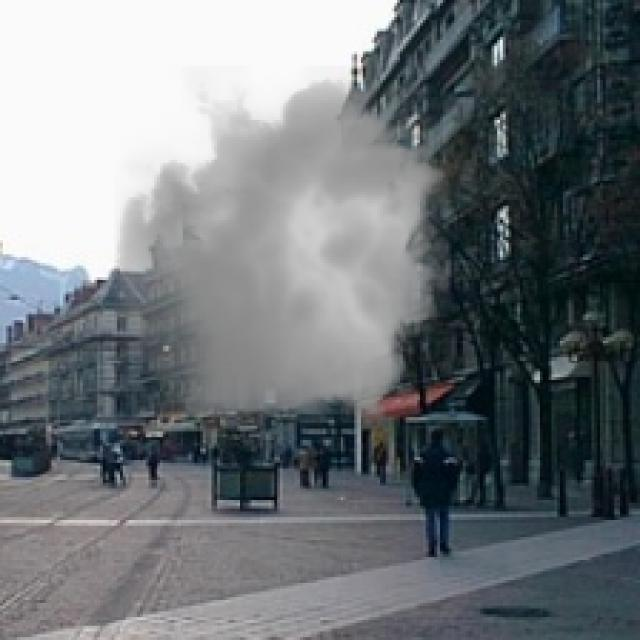smoke: (103, 66, 466, 440)
